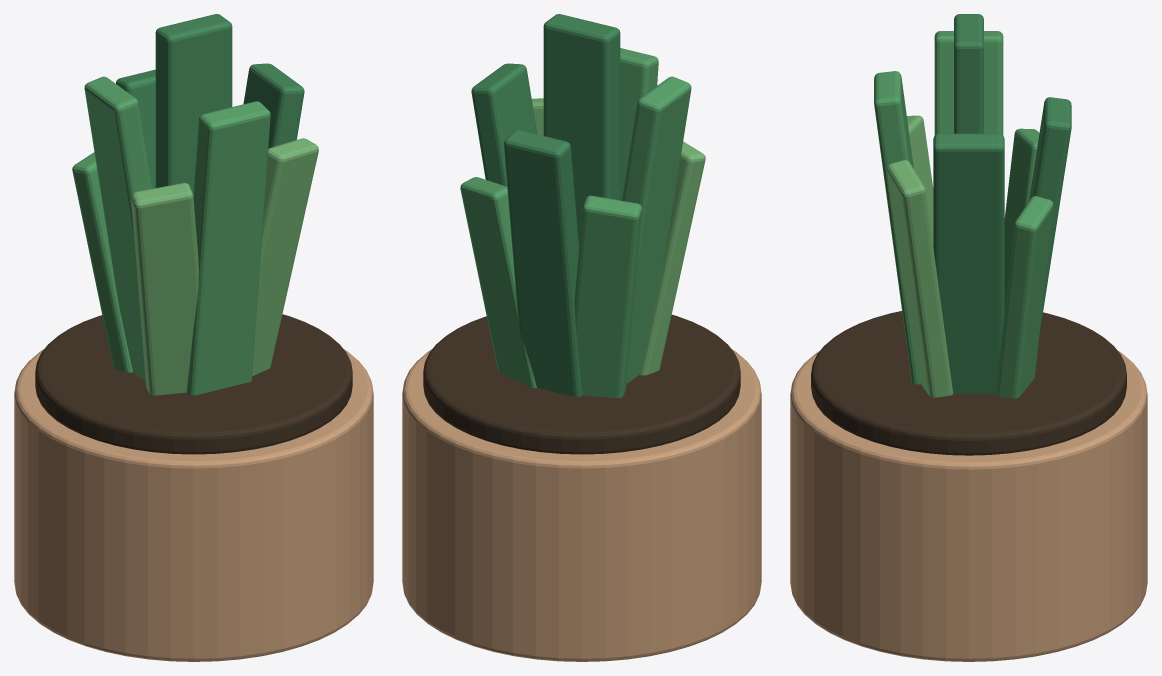
Rendered from snake-plant-01.glb.
The picture shows the model from 3 angles, left to right: view 1: azimuth 30°, elevation 25°; view 2: azimuth 150°, elevation 25°; view 3: azimuth 270°, elevation 25°; orthographic projection.
Parts seen in each view (by area): view 1: snake-plant-01; view 2: snake-plant-01; view 3: snake-plant-01.
Boxes of the visible parts, box(x1,y1,x2,y2) form: snake-plant-01: box(14, 14, 373, 661); snake-plant-01: box(402, 14, 761, 661); snake-plant-01: box(790, 14, 1147, 661).
Bounding box in the file's own units: 0.26 × 0.45 × 0.26.
